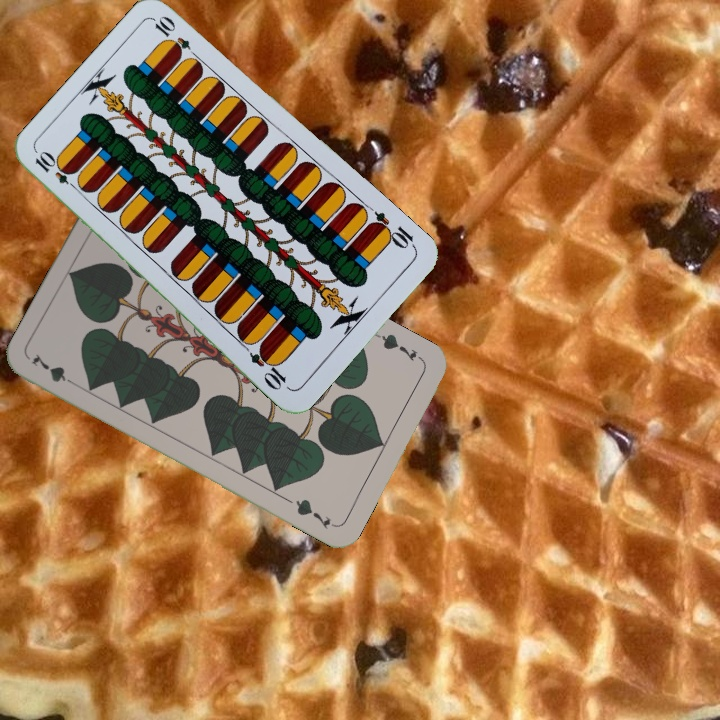E10: (365, 207, 419, 252), (31, 148, 83, 194)
G7: (27, 349, 82, 390), (371, 329, 425, 364)
